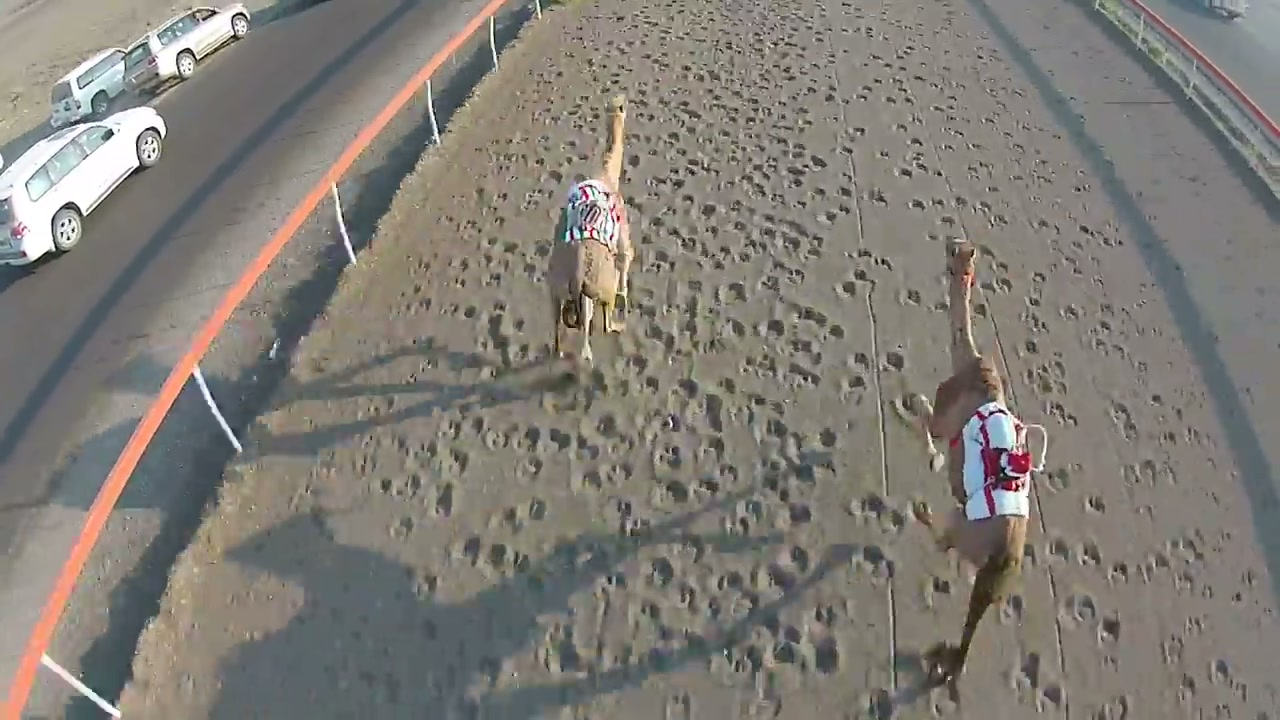animal_footprint: (121, 0, 1273, 718)
